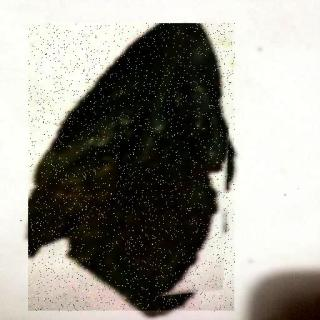Red Leaf Spot: (30, 25, 237, 313)
